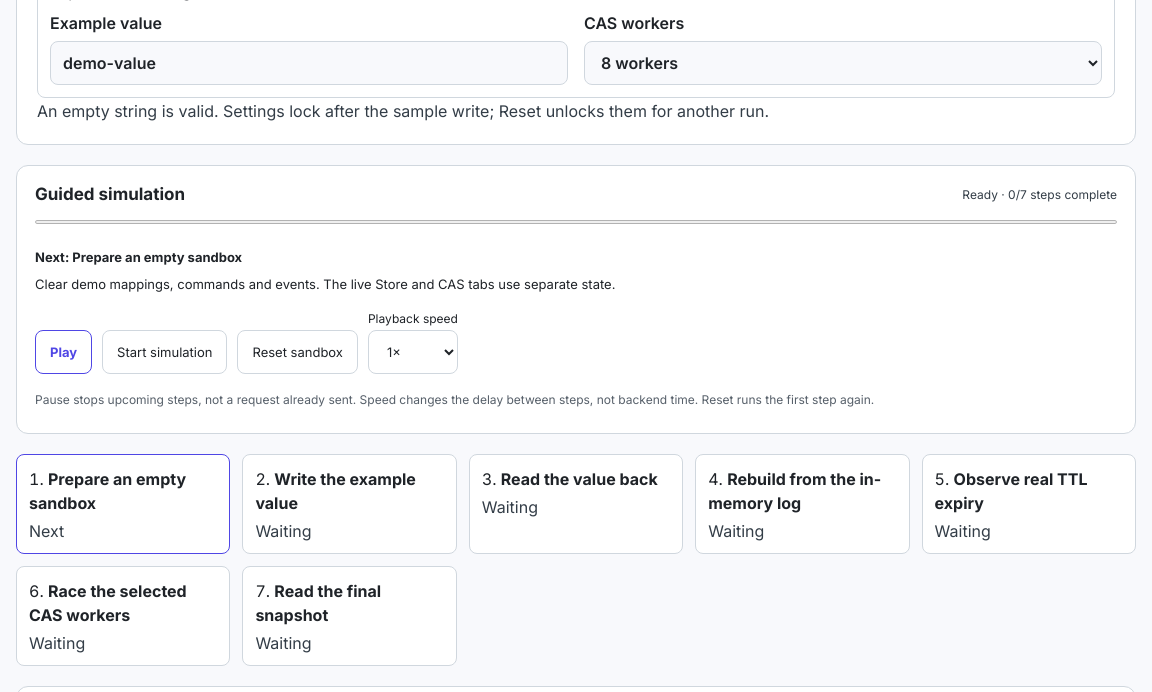
Test: KV shared simulation › retains the last confirmed snapshot and requires reset after a failed write
(page scrolled)
Click the button "Start simulation": (165, 352) [102,330,228,374]
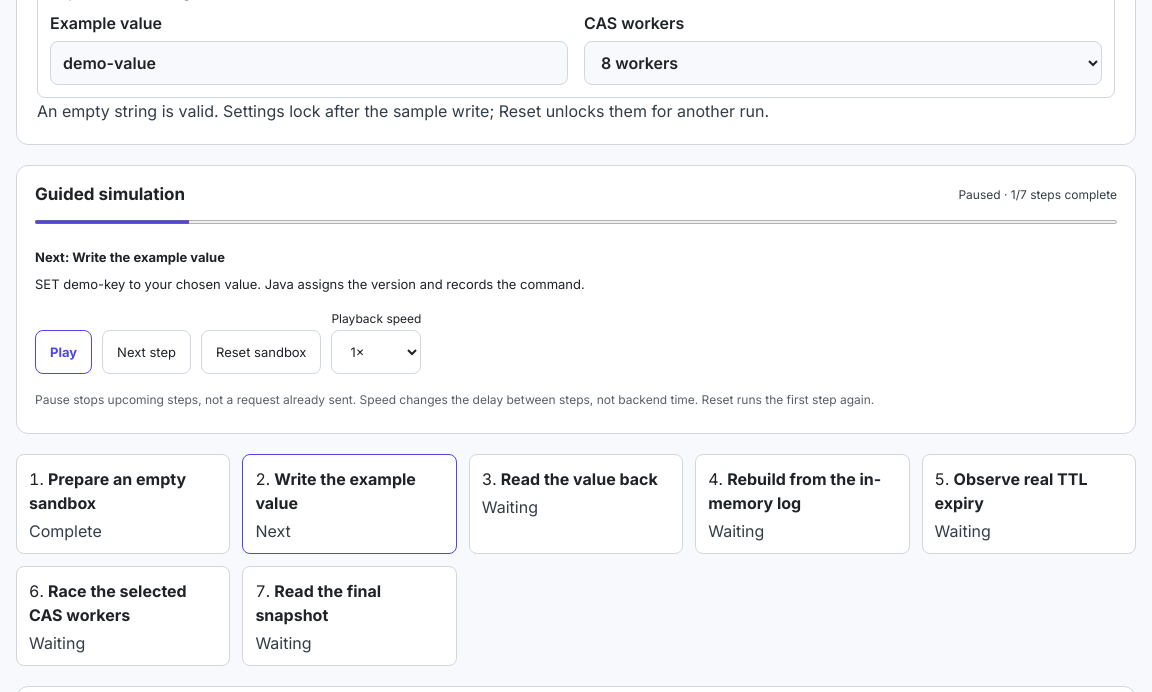
Check: the progress indicator has attribute value="1", box [35,218,1117,226]
Click the button "Next step": (147, 352) [102,330,191,374]
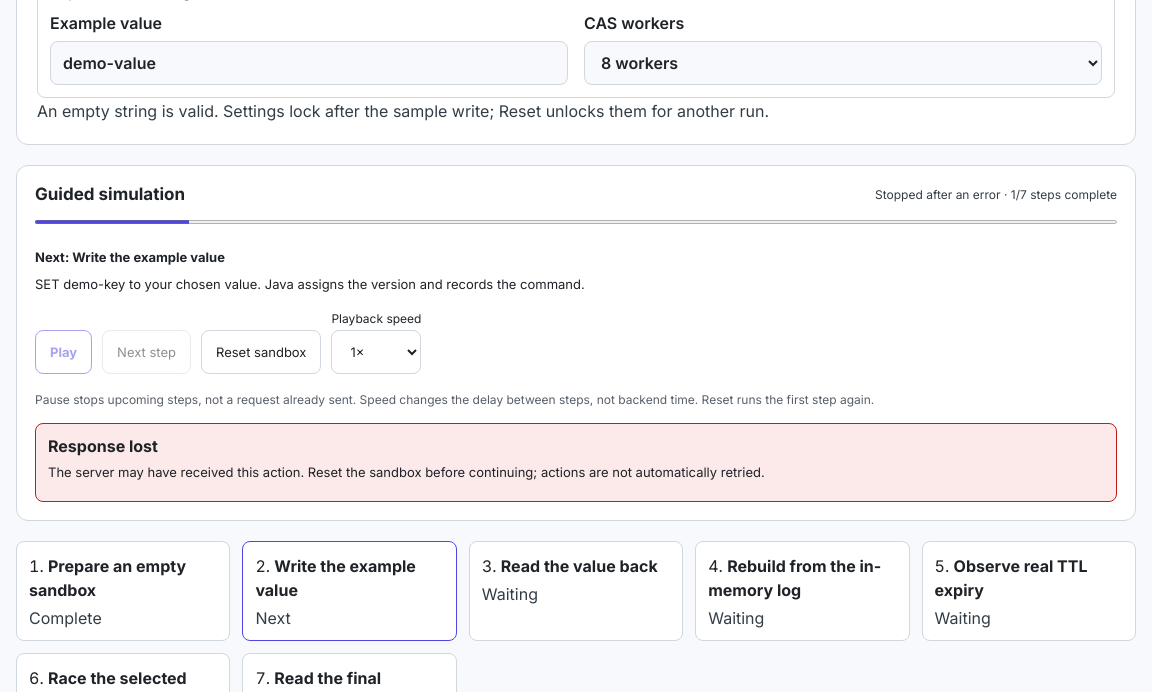
Check: the message that starts with "Response lost" is shown, box [48,436,158,456]
Check: the button "Next step" is disabled, box [102,330,191,374]
Check: the button "Play" is disabled, box [35,330,92,374]
Click the button "Reset sandbox": (261, 352) [201,330,322,374]
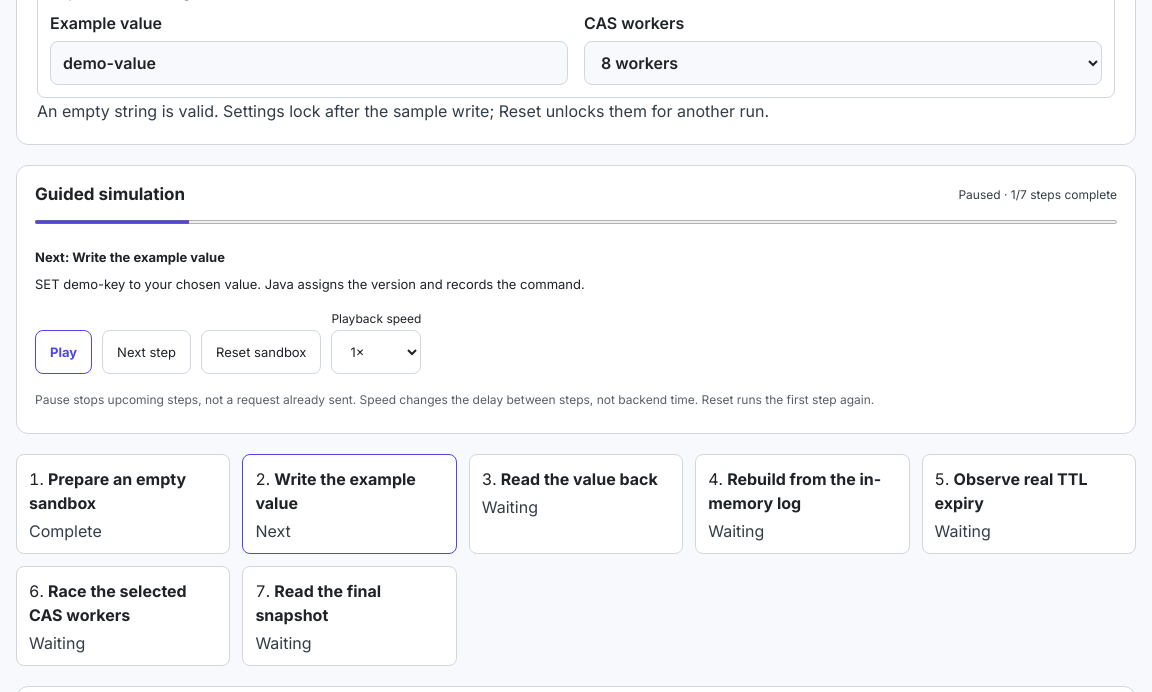
Check: the button "Next step" is enabled, box [102,330,191,374]
